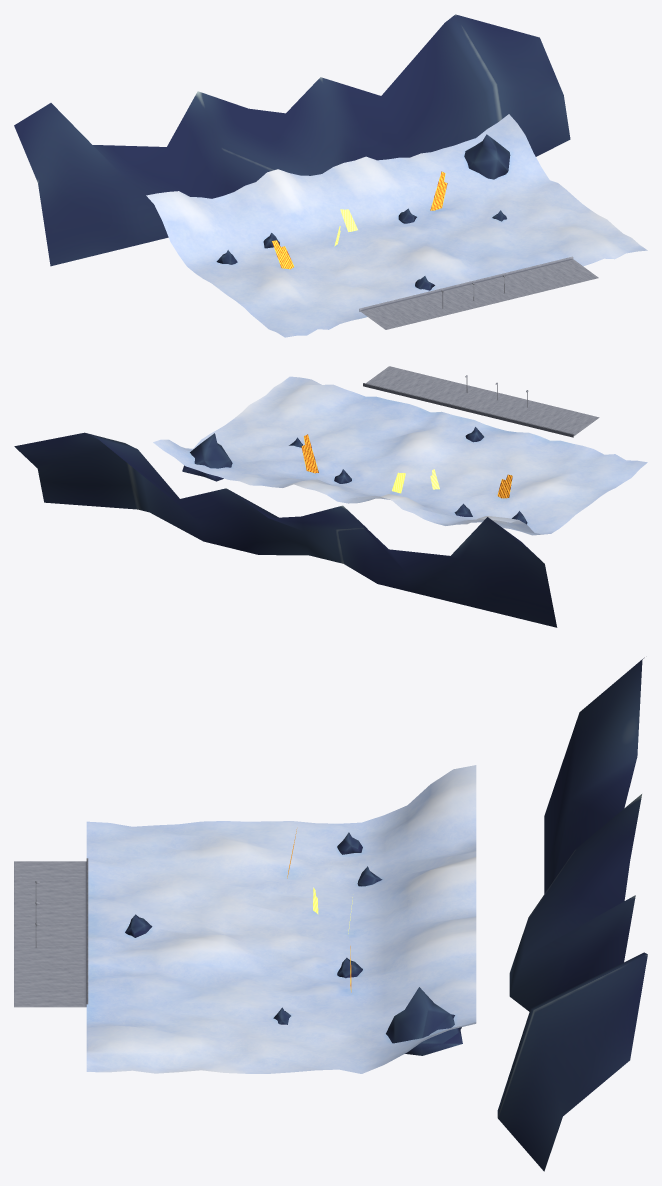
File: StageSelect_Stage03_SnowField.fbx
The picture shows the model from 3 angles, top to bottom: view 1: azimuth 30°, elevation 25°; view 2: azimuth 150°, elevation 25°; view 3: azimuth 270°, elevation 25°; orthographic projection. The views are drawn at different scales.
Parts seen in each view (by area): view 1: Stage03_SnowField; view 2: Stage03_SnowField; view 3: Stage03_SnowField.
Part boxes in pixels (x1,y1,x2,y2): Stage03_SnowField: (14,14,647,337); Stage03_SnowField: (14,366,647,627); Stage03_SnowField: (14,657,647,1171).
Size of the model in its own units: 1352 by 1019 by 322.
